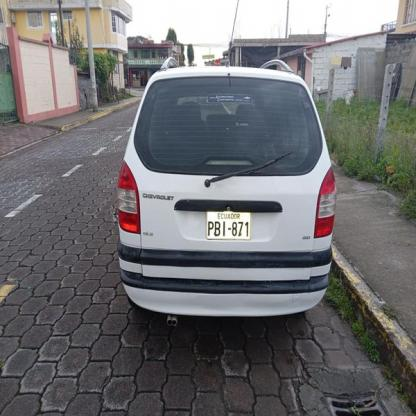Placa: (203, 208, 253, 244)
